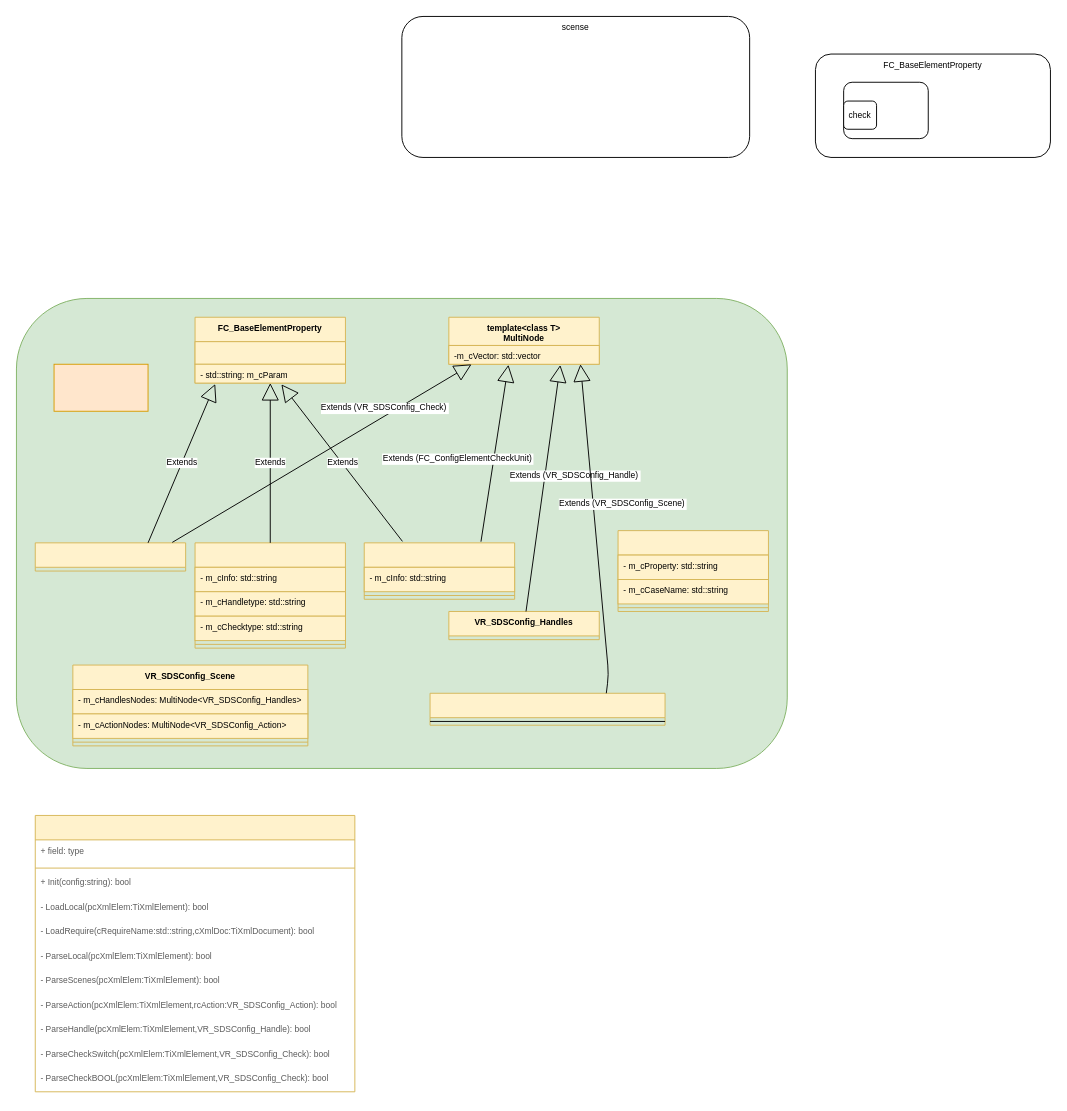
Some shapes in this 1067 by 1111 pixel diagram are drawn without their labels. Each missing label, with the box of its shape:
- std::string: m_cType: (194, 341, 345, 364)
FC_ConfigElementAction: (194, 542, 345, 648)
FC_ConfigElementCheckUnit: (617, 530, 768, 611)
Handle: (843, 81, 928, 139)
VR_SDSConfig_Check: (363, 542, 515, 599)
VR_SDSConfig_Handle: (34, 542, 186, 571)
VR_SDSConfig_Scenes: (429, 692, 665, 725)
VR_SDSConfigIF: (34, 815, 355, 1092)
基本XML元素组成: (53, 363, 148, 411)
